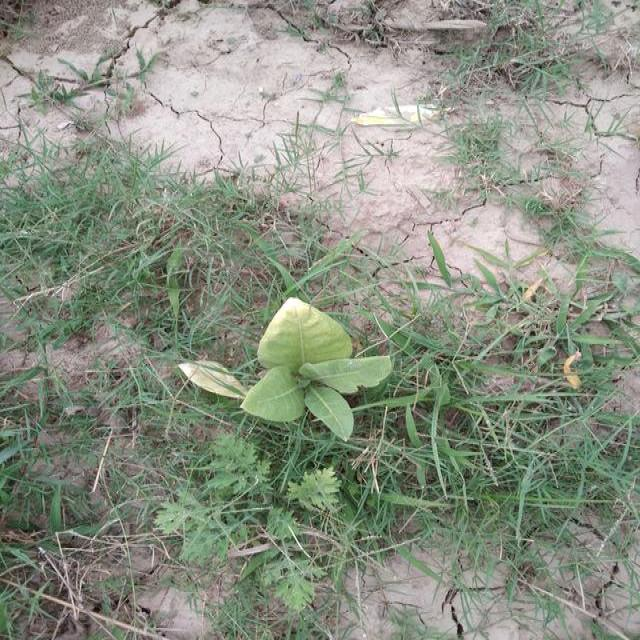crop: (185, 298, 408, 456)
